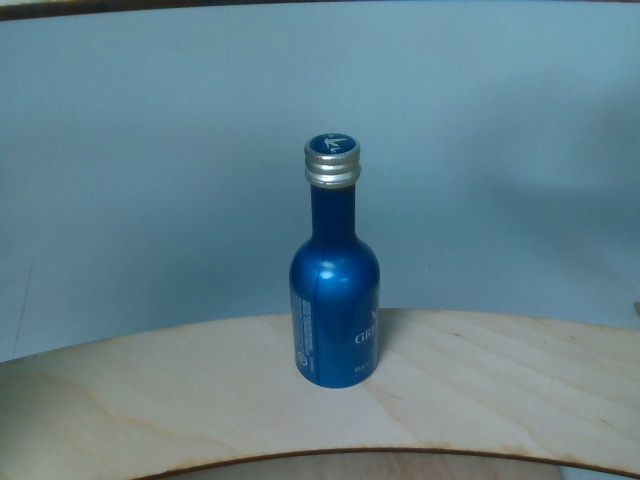vodka: (287, 133, 382, 393)
